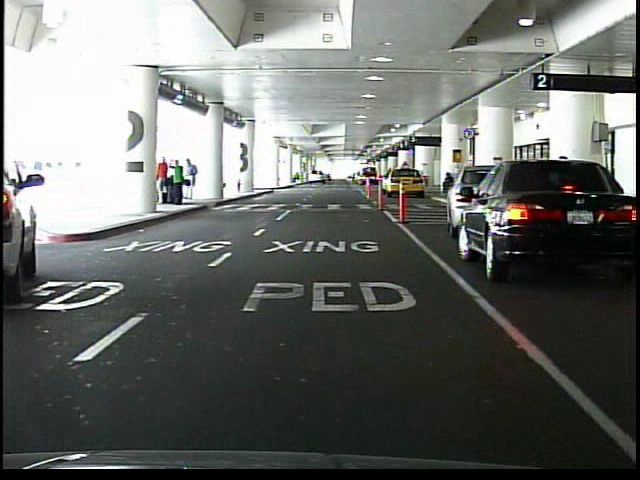person: (159, 154, 171, 206), (171, 159, 184, 206), (185, 158, 198, 201), (440, 172, 454, 194)
